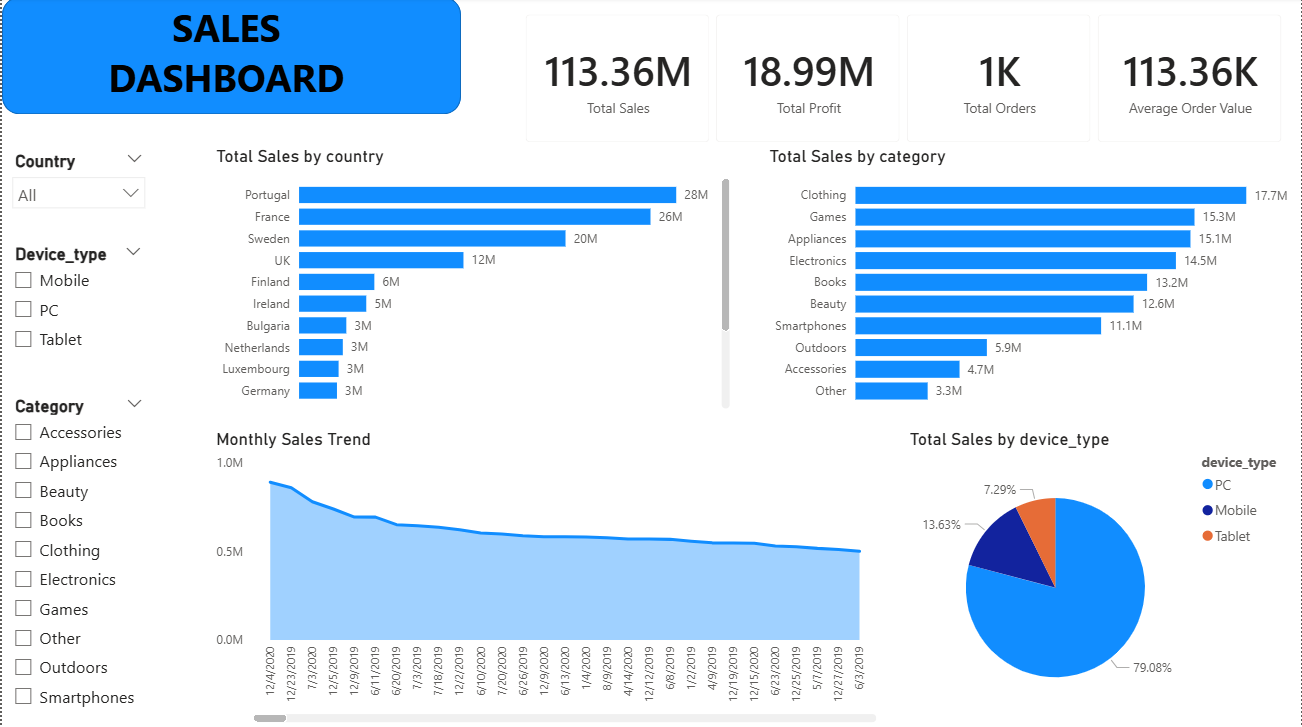

This screenshot's page, from the dashboard's own definition file:
{"tool":"powerbi","page":{"name":"Page 1","canvas":[1280,720],"ordinal":0},"visuals":[{"type":"cardVisual","fields":{"Data":["Sales-Export_2019-2020.Total Sales","Sales-Export_2019-2020.Total Profit","Sales-Export_2019-2020.Total Orders","Sales-Export_2019-2020.Average Order Value"]},"box":[498.9,0,780.5,160.9],"z":0},{"type":"clusteredBarChart","fields":{"Category":["Sales-Export_2019-2020.category"],"Y":["Sales-Export_2019-2020.Total Sales"]},"box":[751.6,147,527.8,263.9],"z":1},{"type":"areaChart","title":"Monthly Sales Trend","fields":{"Category":["Sales-Export_2019-2020.MonthYear"],"Y":["Sales-Export_2019-2020.Total Sales"]},"box":[206.1,426,661.1,294.1],"z":2},{"type":"pieChart","fields":{"Category":["Sales-Export_2019-2020.device_type"],"Y":["Sales-Export_2019-2020.Total Sales"]},"box":[889.8,426,389.6,294.1],"z":3},{"type":"clusteredBarChart","fields":{"Category":["Sales-Export_2019-2020.country"],"Y":["Sales-Export_2019-2020.Total Sales"]},"box":[206.1,147,516.5,263.9],"z":4},{"type":"slicer","fields":{"Values":["Sales-Export_2019-2020.country"]},"box":[0,147,150.8,79.2],"z":5},{"type":"slicer","fields":{"Values":["Sales-Export_2019-2020.category"]},"box":[0,388.3,150.8,331.8],"z":6},{"type":"slicer","fields":{"Values":["Sales-Export_2019-2020.device_type"]},"box":[0,238.8,149.6,120.7],"z":7},{"type":"shape","box":[0,0,452.4,115.6],"z":8},{"type":"textbox","box":[0,0,452.4,115.6],"z":9}]}

Visuals, with their boxes in screenshot pixels (x1, y1, x2, y2), scaled from the page's 1280x720 canvas onto the 1302x727 screenshot:
cardVisual - Sales-Export_2019-2020.Total Sales x Sales-Export_2019-2020.Total Profit: Rect(507, 0, 1301, 162)
clusteredBarChart - Sales-Export_2019-2020.category x Sales-Export_2019-2020.Total Sales: Rect(765, 148, 1301, 415)
"Monthly Sales Trend" areaChart: Rect(210, 430, 882, 726)
pieChart - Sales-Export_2019-2020.device_type x Sales-Export_2019-2020.Total Sales: Rect(905, 430, 1301, 726)
clusteredBarChart - Sales-Export_2019-2020.country x Sales-Export_2019-2020.Total Sales: Rect(210, 148, 735, 415)
slicer - Sales-Export_2019-2020.country: Rect(0, 148, 153, 228)
slicer - Sales-Export_2019-2020.category: Rect(0, 392, 153, 726)
slicer - Sales-Export_2019-2020.device_type: Rect(0, 241, 152, 363)
shape: Rect(0, 0, 460, 117)
textbox: Rect(0, 0, 460, 117)
